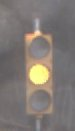Yellow: (22, 26, 62, 127)
